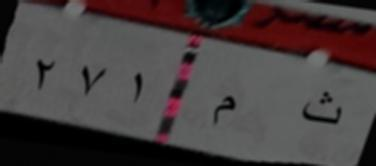1: (124, 67, 158, 112)
2: (26, 50, 64, 106)
7: (74, 60, 114, 111)
meem: (203, 82, 243, 140)
thaa: (293, 84, 356, 135)
